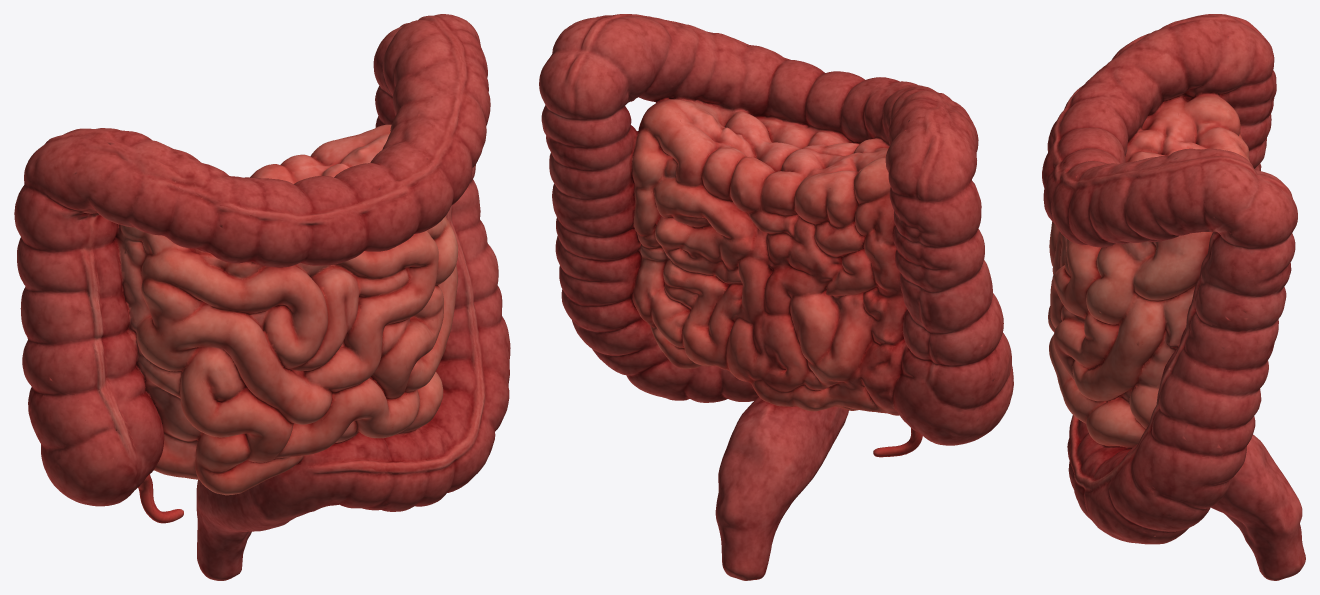
The model's file is Intestinos.glb.
3 renders of one model, left to right at view 1: azimuth 30°, elevation 25°; view 2: azimuth 150°, elevation 25°; view 3: azimuth 270°, elevation 25°, orthographic. The views are drawn at different scales.
Visible parts, largest first — view 1: world; view 2: world; view 3: world.
Boxes of the visible parts, bbox=[...] form: world: bbox=[14, 14, 510, 580]; world: bbox=[539, 14, 1013, 580]; world: bbox=[1042, 14, 1305, 580].
Bounding box in the file's own units: 0.9111 × 1 × 0.4724.
1 material, 1 textured.
